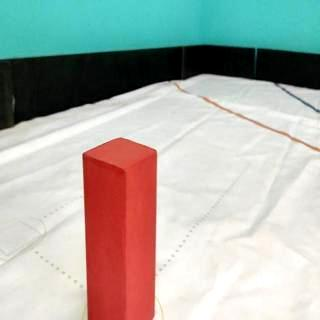redbox: (83, 136, 157, 320)
